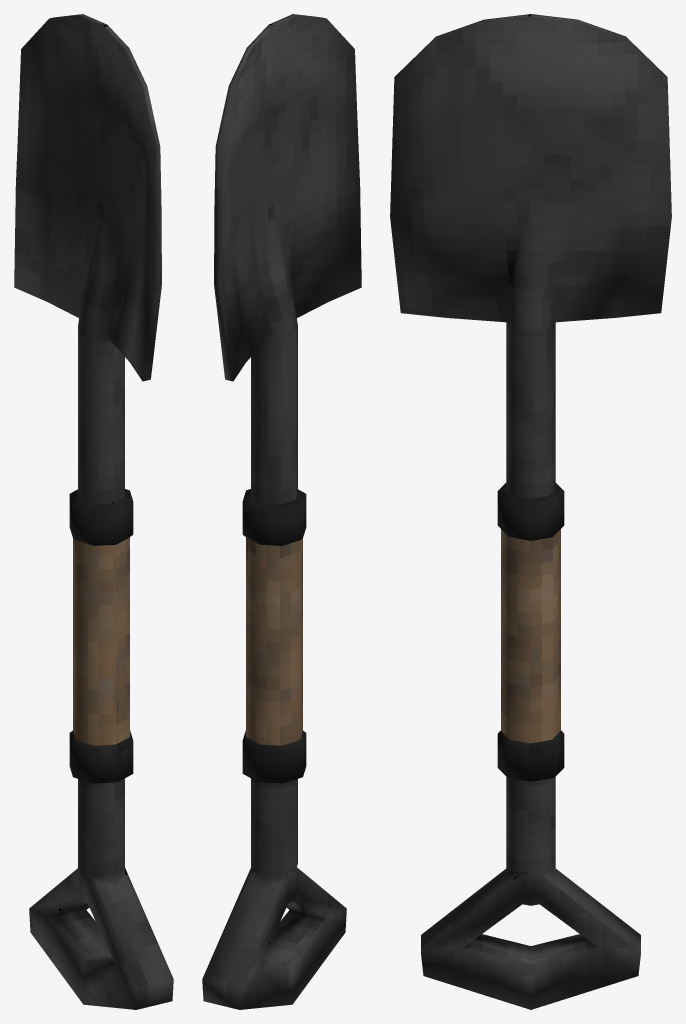
File: WeaponScrapDuck.fbx
3 views of the same model, side by side, from view 1: azimuth 30°, elevation 25°; view 2: azimuth 150°, elevation 25°; view 3: azimuth 270°, elevation 25° (orthographic).
Visible parts, largest first — view 1: WeaponScrapDuck; view 2: WeaponScrapDuck; view 3: WeaponScrapDuck.
Boxes of the visible parts, bbox=[...] form: WeaponScrapDuck: bbox=[14, 14, 173, 1009]; WeaponScrapDuck: bbox=[202, 14, 361, 1009]; WeaponScrapDuck: bbox=[390, 14, 671, 1009].
Size of the model in its own units: 9.93 by 162 by 41.99.
Materials: 1 (1 with a texture image).
